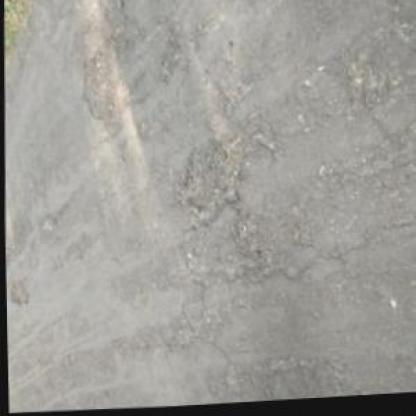pothole: (172, 132, 244, 226), (79, 49, 117, 122), (6, 273, 29, 305)
